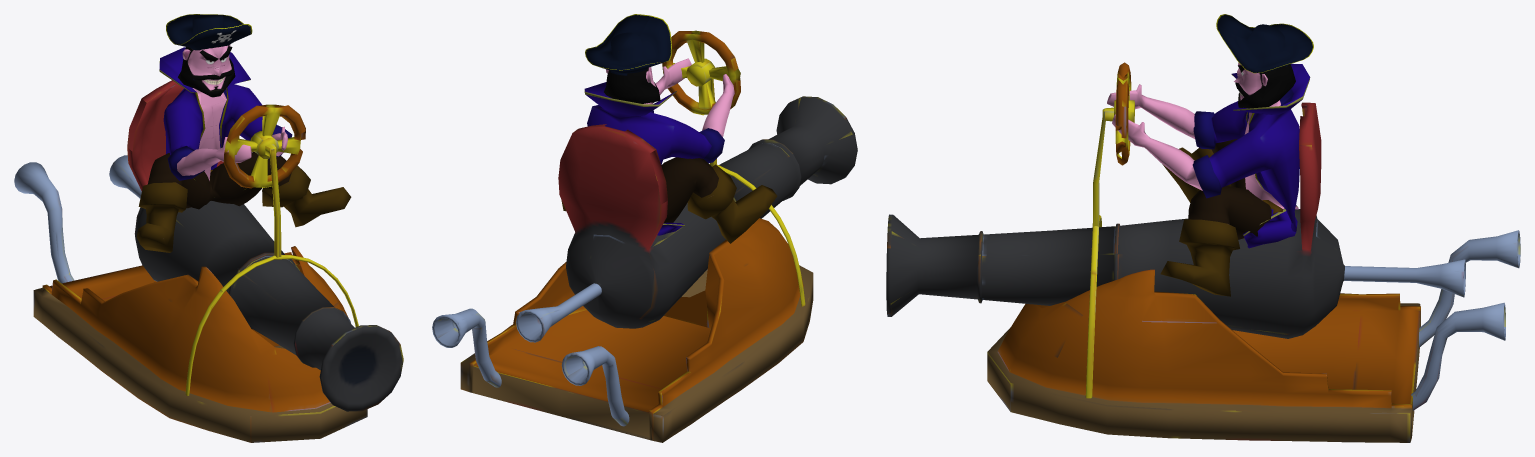
File: VacilePirata_000510.obj
The picture shows the model from 3 angles, left to right: view 1: azimuth 30°, elevation 25°; view 2: azimuth 150°, elevation 25°; view 3: azimuth 270°, elevation 25°; orthographic projection. The views are drawn at different scales.
Parts seen in each view (by area): view 1: carro_pirata_carro_pirata.001, Pirata_PirataH; view 2: carro_pirata_carro_pirata.001, Pirata_PirataH; view 3: carro_pirata_carro_pirata.001, Pirata_PirataH.
Part boxes in pixels (x1,y1,x2,y2): carro_pirata_carro_pirata.001: (14,80,403,442); Pirata_PirataH: (136,14,351,252); carro_pirata_carro_pirata.001: (432,30,857,442); Pirata_PirataH: (561,14,777,243); carro_pirata_carro_pirata.001: (886,62,1520,442); Pirata_PirataH: (1107,14,1313,296).
Bounding box in the file's own units: 5.12 × 7.7 × 12.1.
